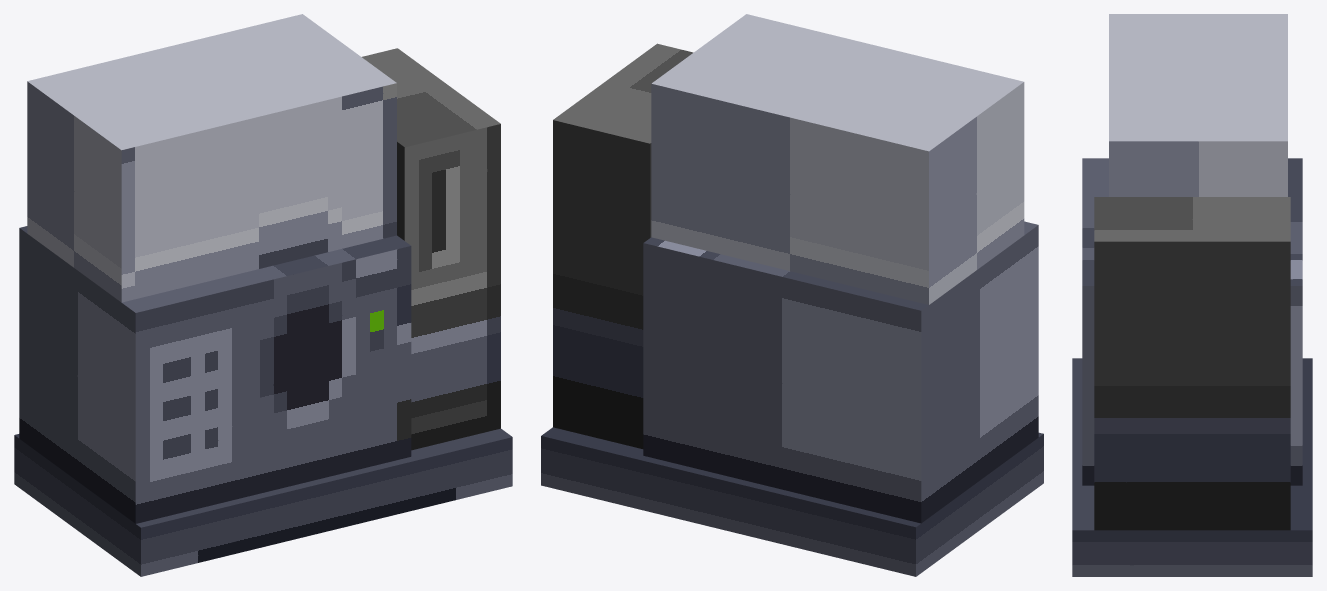
Rendered from pipe_dispenser.glb.
3 renders of one model, left to right at view 1: azimuth 30°, elevation 25°; view 2: azimuth 150°, elevation 25°; view 3: azimuth 270°, elevation 25°, orthographic. The views are drawn at different scales.
Parts seen in each view (by area): view 1: Dispenser_Housing; view 2: Dispenser_Housing; view 3: Dispenser_Housing.
Part boxes in pixels (x1,y1,x2,y2): Dispenser_Housing: (14, 14, 512, 576); Dispenser_Housing: (541, 14, 1043, 576); Dispenser_Housing: (1072, 14, 1312, 576).
Size of the model in its own units: 1.66 by 1.76 by 0.98.
1 material, 1 textured.
